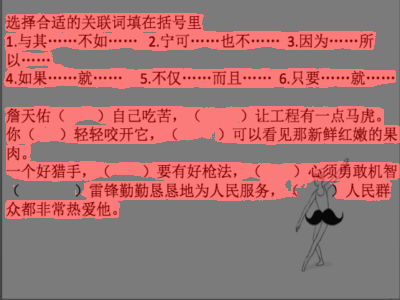text: (6, 105, 397, 143), (6, 163, 397, 199), (7, 31, 374, 49), (6, 70, 396, 86), (6, 13, 207, 30), (6, 201, 119, 217), (5, 53, 55, 67), (3, 144, 34, 161)
